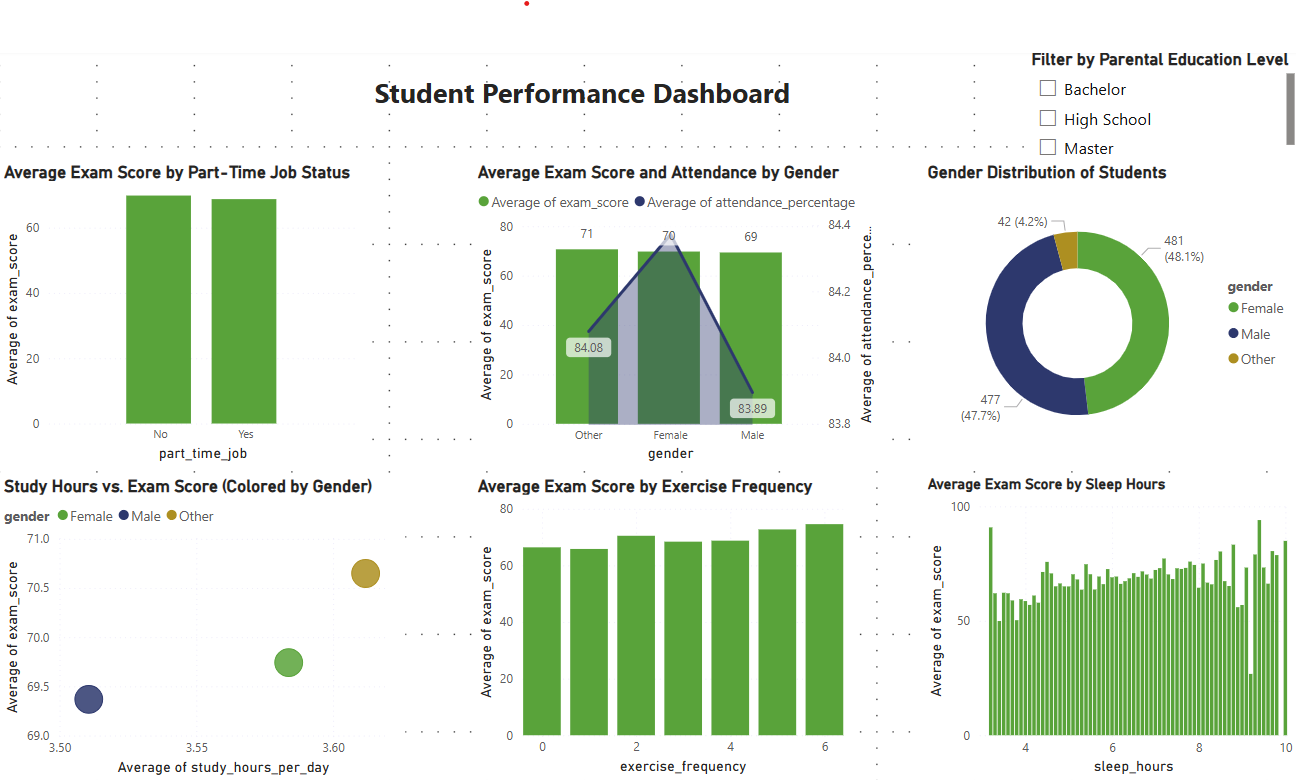

The dashboard page shown, as its layout file describes it:
{"tool":"powerbi","page":{"name":"Page 1","canvas":[1280,720],"ordinal":0},"visuals":[{"type":"clusteredColumnChart","title":"Average Exam Score by Part-Time Job Status","fields":{"Category":["Students_data_analysis.part_time_job"],"Y":["Avg(Students_data_analysis.exam_score)"]},"box":[0,111.2,357.5,300],"z":0},{"type":"donutChart","title":"Gender Distribution of Students","fields":{"Category":["Students_data_analysis.gender"],"Y":["CountNonNull(Students_data_analysis.exam_score)"]},"box":[910,111.2,370,300],"z":1},{"type":"lineClusteredColumnComboChart","title":"Average Exam Score and Attendance by Gender","fields":{"Category":["Students_data_analysis.gender"],"Y":["Avg(Students_data_analysis.exam_score)"],"Y2":["Avg(Students_data_analysis.attendance_percentage)"]},"box":[466.2,111.2,400,300],"z":2},{"type":"slicer","title":"Filter by Parental Education Level","fields":{"Values":["Students_data_analysis.parental_education_level"]},"box":[1011.2,0,268.8,111.2],"z":3},{"type":"scatterChart","title":"Study Hours vs. Exam Score (Colored by Gender)","fields":{"X":["Avg(Students_data_analysis.study_hours_per_day)"],"Y":["Avg(Students_data_analysis.exam_score)"],"Series":["Students_data_analysis.gender"],"Size":["Avg(Students_data_analysis.attendance_percentage)"]},"box":[0,420,400,300],"z":4},{"type":"clusteredColumnChart","title":"Average Exam Score by Exercise Frequency","fields":{"Category":["Students_data_analysis.exercise_frequency"],"Y":["Avg(Students_data_analysis.exam_score)"]},"box":[466.2,420,370,300],"z":5},{"type":"clusteredColumnChart","title":"Average Exam Score by Sleep Hours","fields":{"Category":["Students_data_analysis.sleep_hours"],"Y":["Avg(Students_data_analysis.exam_score)"]},"box":[910,420,370,300],"z":6},{"type":"textbox","box":[152.5,20,843.8,70],"z":7}]}

Visuals, with their boxes on the page's 1280x720 design canvas (x1, y1, x2, y2). These are canvas units, not pixel positions in the 1296x780 screenshot, which may show the page scaled, cropped or inside an application window:
"Average Exam Score by Part-Time Job Status" clusteredColumnChart: (0, 111, 358, 411)
"Gender Distribution of Students" donutChart: (910, 111, 1280, 411)
"Average Exam Score and Attendance by Gender" lineClusteredColumnComboChart: (466, 111, 866, 411)
"Filter by Parental Education Level" slicer: (1011, 0, 1280, 111)
"Study Hours vs. Exam Score (Colored by Gender)" scatterChart: (0, 420, 400, 720)
"Average Exam Score by Exercise Frequency" clusteredColumnChart: (466, 420, 836, 720)
"Average Exam Score by Sleep Hours" clusteredColumnChart: (910, 420, 1280, 720)
textbox: (152, 20, 996, 90)
